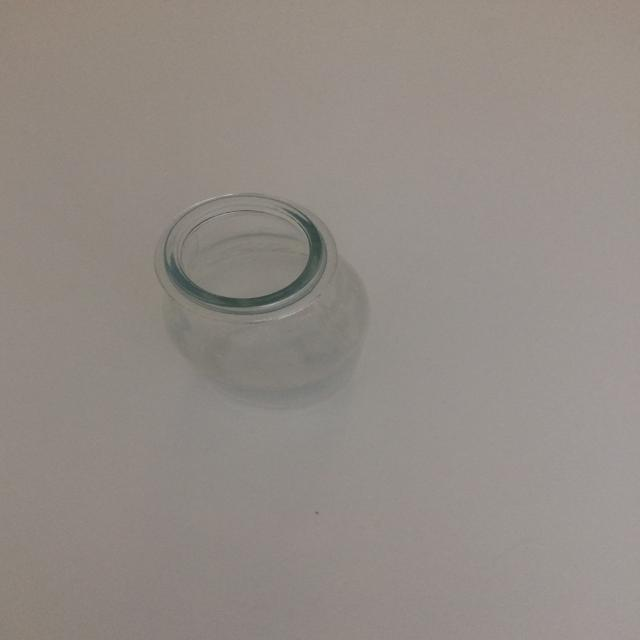glass: (153, 191, 370, 410)
